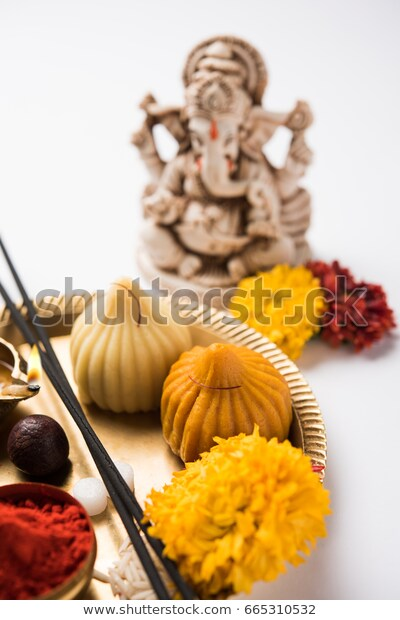modak: (60, 266, 180, 412), (168, 330, 296, 457)
